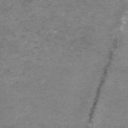finishing roll printing: (86, 36, 118, 123), (119, 16, 126, 32)
